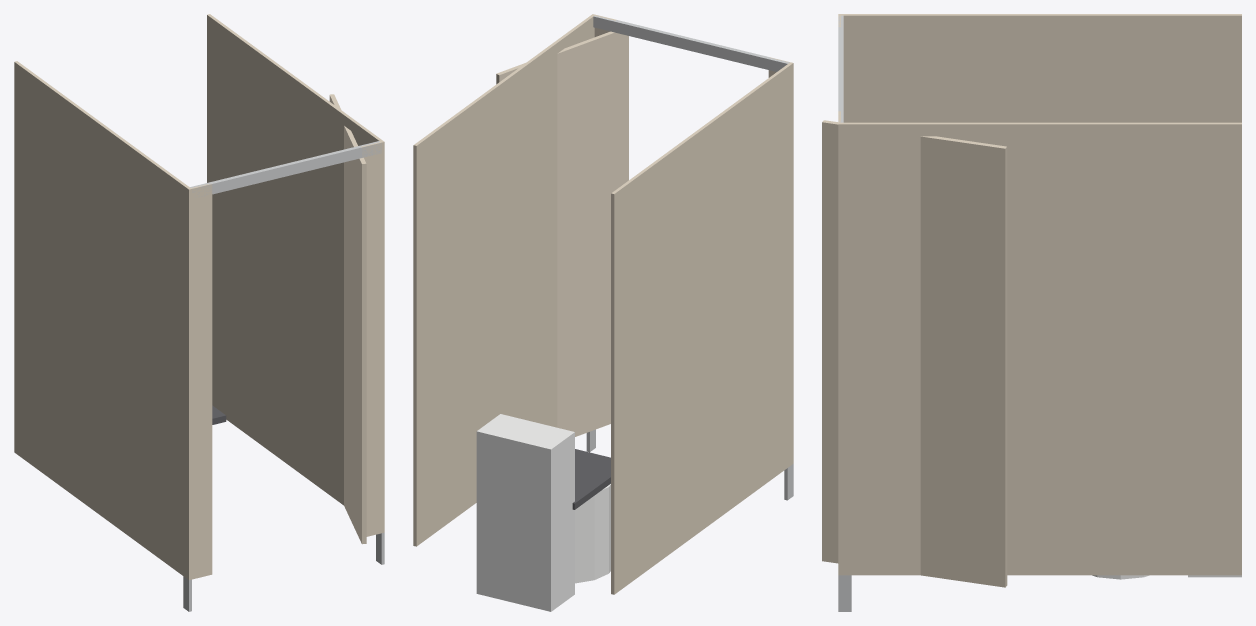
Rendered from Toilet_Cubicle.fbx.
3 renders of one model, left to right at view 1: azimuth 30°, elevation 25°; view 2: azimuth 150°, elevation 25°; view 3: azimuth 270°, elevation 25°, orthographic. The views are drawn at different scales.
Visible parts, largest first — view 1: Toilet_Cubicle; view 2: Toilet_Cubicle; view 3: Toilet_Cubicle.
Part boxes in pixels (x1,y1,x2,y2): Toilet_Cubicle: [14, 14, 384, 611]; Toilet_Cubicle: [413, 14, 793, 611]; Toilet_Cubicle: [822, 14, 1241, 611].
Bounding box in the file's own units: 1.08 × 2 × 1.56.
